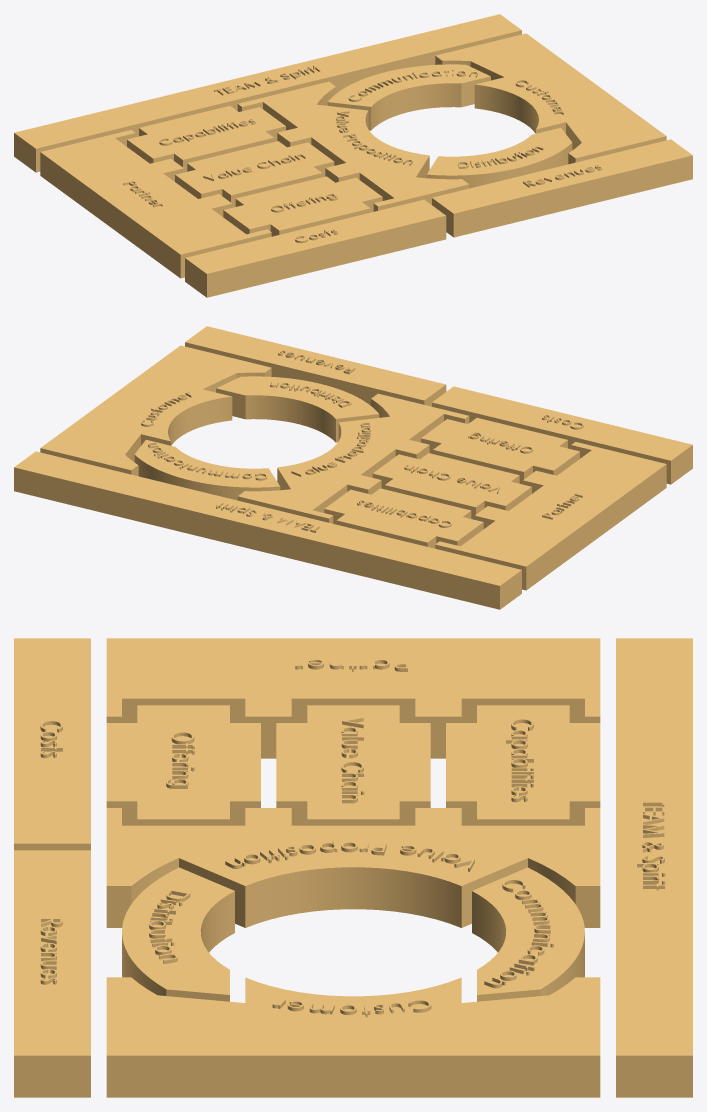
Rendered from 20250802_Canvas_glb.glb.
3 renders of one model, top to bottom at view 1: azimuth 30°, elevation 25°; view 2: azimuth 150°, elevation 25°; view 3: azimuth 270°, elevation 25°, orthographic. The views are drawn at different scales.
Parts seen in each view (by area): view 1: 20250730_Partner-1, 20250730_Team-1, 20250730_Customer-1, 20250730_Costs-1, 20250730_Revenues-1, 20250730_Value Proposition_v3-1, 20250730_Value Chain-1, 20250730_Capabilities-1, 20250730_Offering-1, 20250730_Communication-1, 20250730_Distribution-1; view 2: 20250730_Team-1, 20250730_Partner-1, 20250730_Customer-1, 20250730_Value Proposition_v3-1, 20250730_Revenues-1, 20250730_Costs-1, 20250730_Value Chain-1, 20250730_Offering-1, 20250730_Capabilities-1, 20250730_Distribution-1, 20250730_Communication-1; view 3: 20250730_Customer-1, 20250730_Value Proposition_v3-1, 20250730_Partner-1, 20250730_Team-1, 20250730_Revenues-1, 20250730_Value Chain-1, 20250730_Offering-1, 20250730_Capabilities-1, 20250730_Costs-1, 20250730_Distribution-1, 20250730_Communication-1.
Part boxes in pixels (x1,y1,x2,y2): 20250730_Partner-1: (40, 130, 271, 278); 20250730_Team-1: (14, 14, 521, 172); 20250730_Customer-1: (435, 33, 666, 164); 20250730_Costs-1: (185, 199, 446, 297); 20250730_Revenues-1: (432, 139, 692, 237); 20250730_Value Proposition_v3-1: (237, 81, 469, 211); 20250730_Value Chain-1: (175, 141, 334, 207); 20250730_Capabilities-1: (127, 106, 285, 172); 20250730_Offering-1: (223, 176, 382, 236); 20250730_Communication-1: (327, 64, 490, 130); 20250730_Distribution-1: (426, 127, 572, 188); 20250730_Team-1: (14, 451, 521, 609); 20250730_Partner-1: (435, 442, 666, 590); 20250730_Customer-1: (40, 345, 271, 476); 20250730_Value Proposition_v3-1: (237, 393, 469, 523); 20250730_Revenues-1: (185, 326, 446, 406); 20250730_Costs-1: (432, 386, 692, 484); 20250730_Value Chain-1: (372, 453, 531, 519); 20250730_Offering-1: (421, 418, 579, 484); 20250730_Capabilities-1: (324, 488, 483, 548); 20250730_Distribution-1: (216, 376, 379, 442); 20250730_Communication-1: (134, 439, 280, 500); 20250730_Customer-1: (106, 977, 600, 1097); 20250730_Value Proposition_v3-1: (106, 808, 600, 927); 20250730_Partner-1: (106, 638, 600, 758); 20250730_Team-1: (616, 638, 692, 1097); 20250730_Revenues-1: (14, 850, 90, 1097); 20250730_Value Chain-1: (276, 705, 430, 825); 20250730_Offering-1: (106, 705, 260, 825); 20250730_Capabilities-1: (446, 705, 600, 825); 20250730_Costs-1: (14, 638, 90, 850); 20250730_Distribution-1: (122, 867, 234, 1001); 20250730_Communication-1: (472, 867, 584, 1001).
Size of the model in its own units: 1.28 by 0.065 by 0.88.
